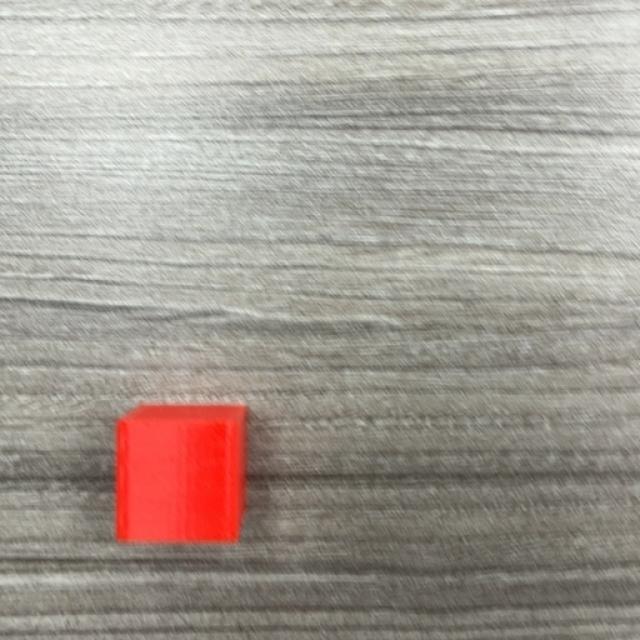Rojo: (118, 405, 248, 546)
